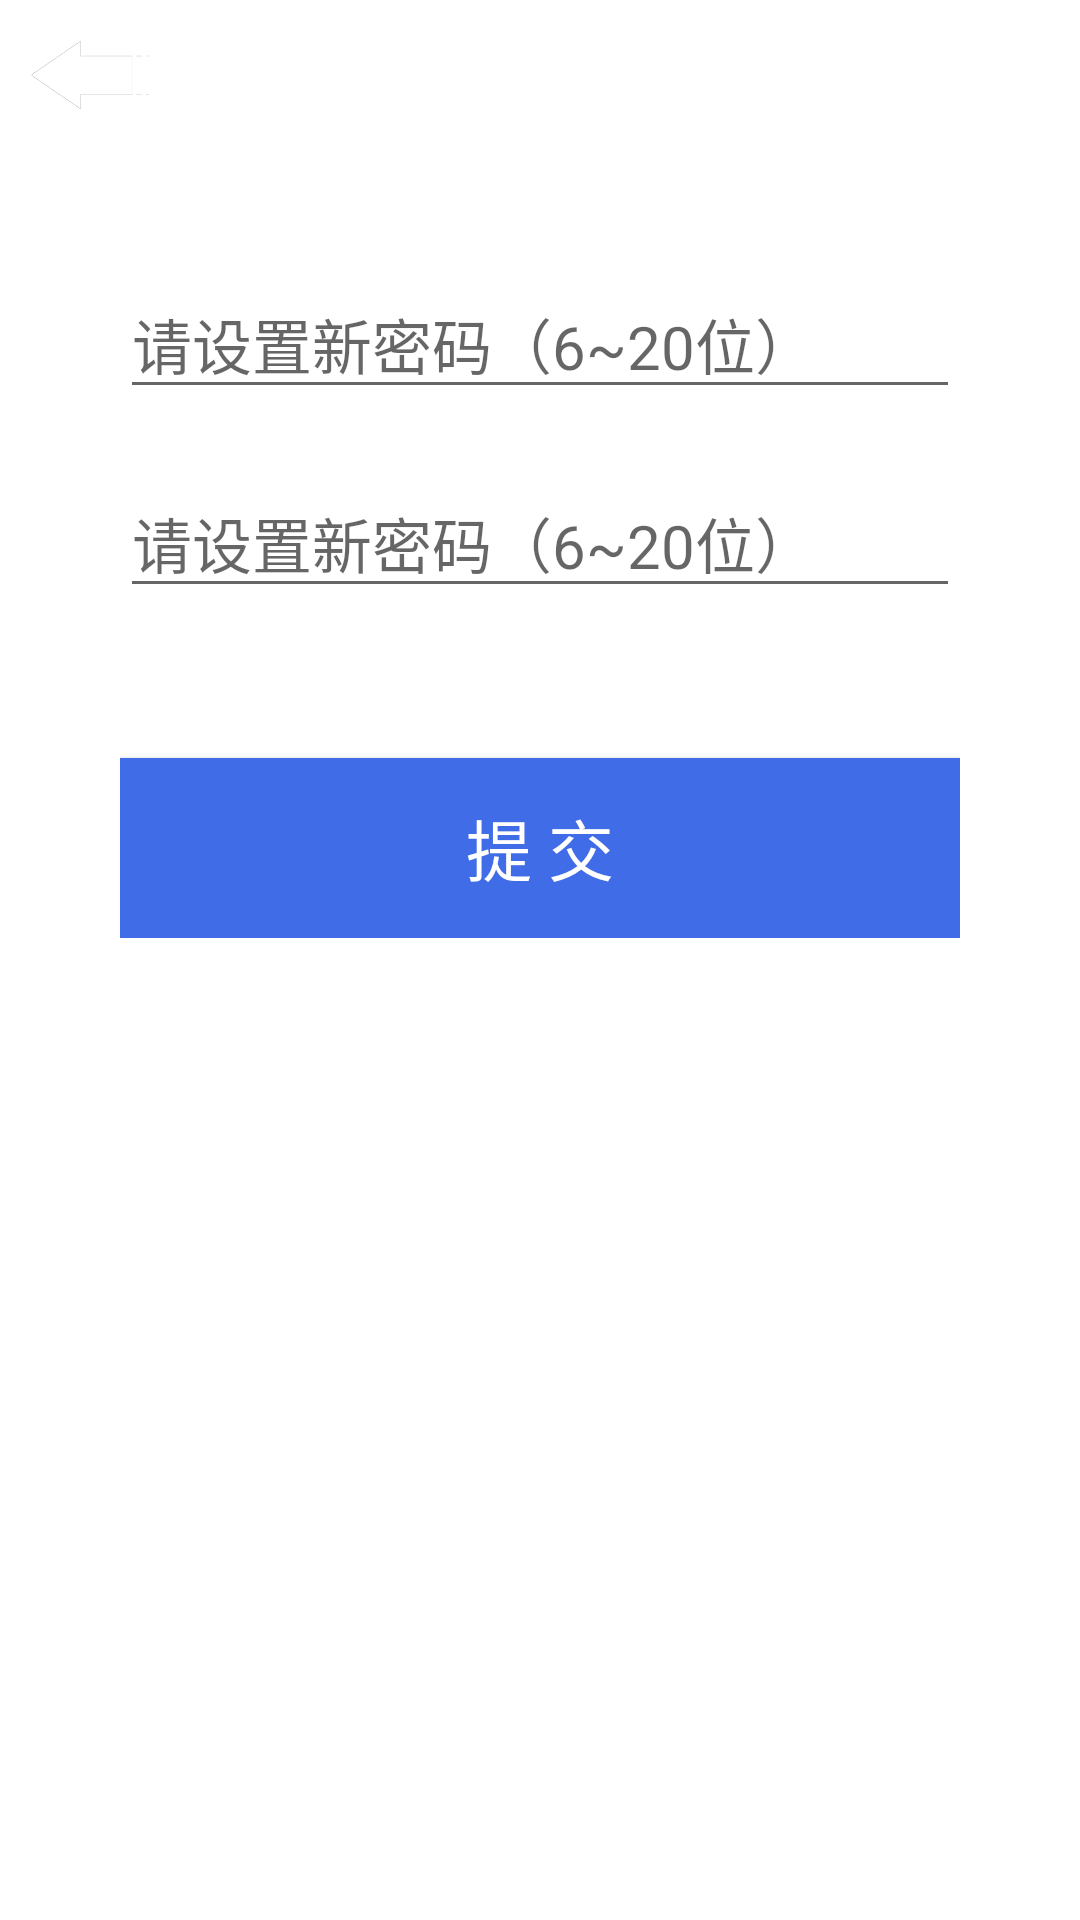

Icon bounding boxes for this 1080px×1920px phone screenshot, format (x1, y1, x2, y2):
back: (32, 41, 149, 109)
